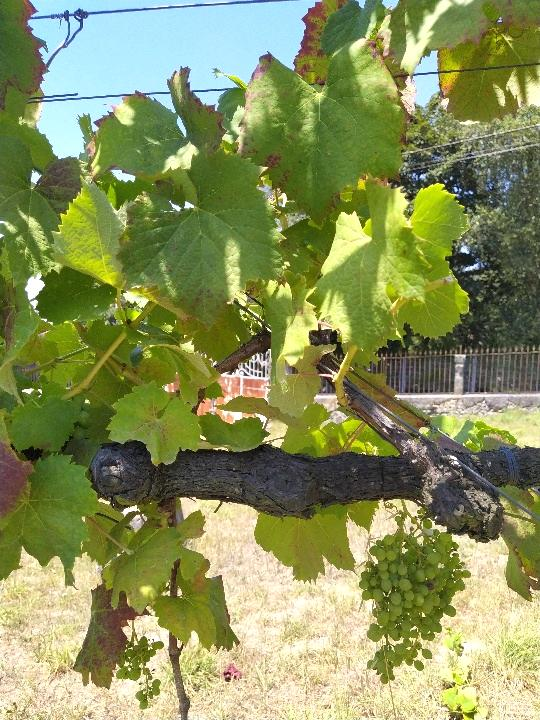grape: (362, 510, 477, 687), (116, 635, 165, 711)
